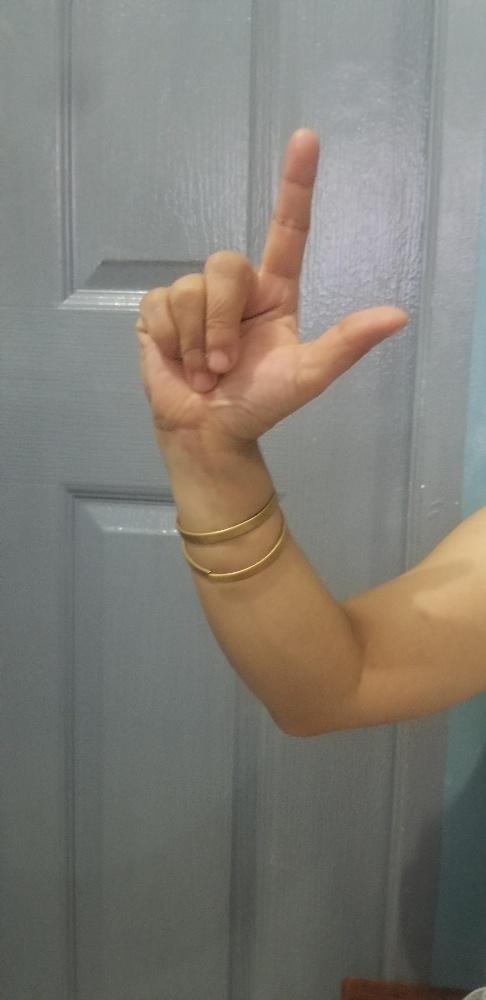l: (131, 125, 408, 438)
